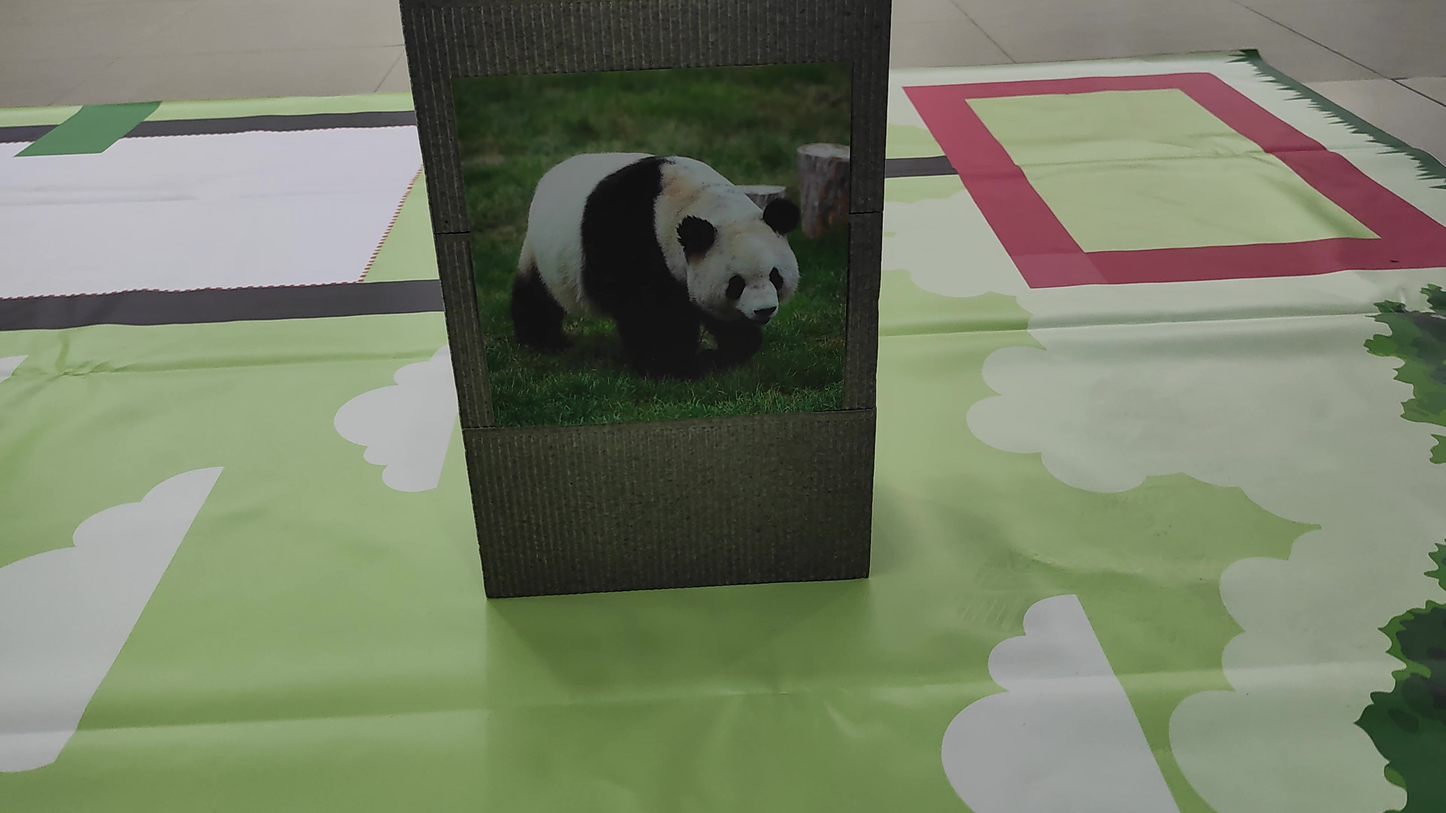panda: (487, 127, 821, 392)
